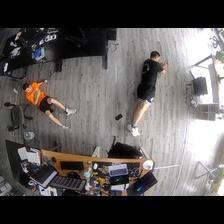fall: (124, 50, 167, 137), (23, 81, 79, 128)
